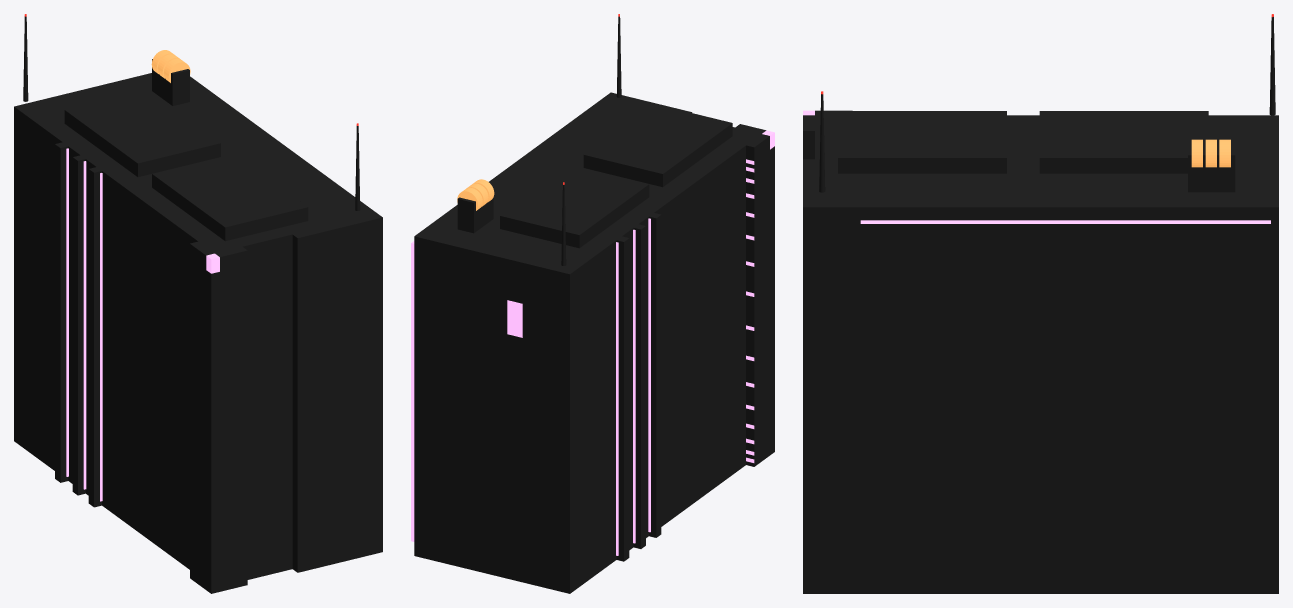
The model's file is Palazzo_02.fbx.
3 views of the same model, side by side, from view 1: azimuth 30°, elevation 25°; view 2: azimuth 150°, elevation 25°; view 3: azimuth 270°, elevation 25° (orthographic). The views are drawn at different scales.
Visible parts, largest first — view 1: 03_Ed.001; view 2: 03_Ed.001; view 3: 03_Ed.001.
Part boxes in pixels (<box>): 03_Ed.001: <box>14,14,382,593</box>; 03_Ed.001: <box>411,14,774,593</box>; 03_Ed.001: <box>803,14,1278,593</box>.
Size of the model in its own units: 3.5 by 7 by 8.
